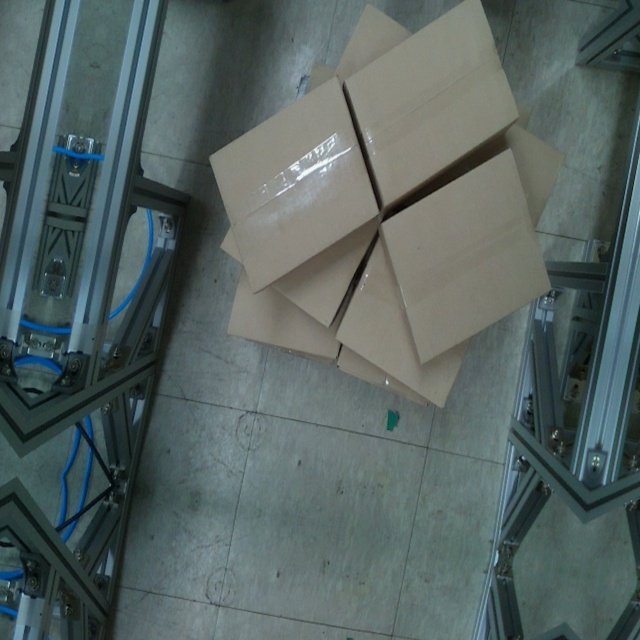box: (203, 70, 384, 296), (378, 145, 556, 369), (340, 0, 525, 211)
